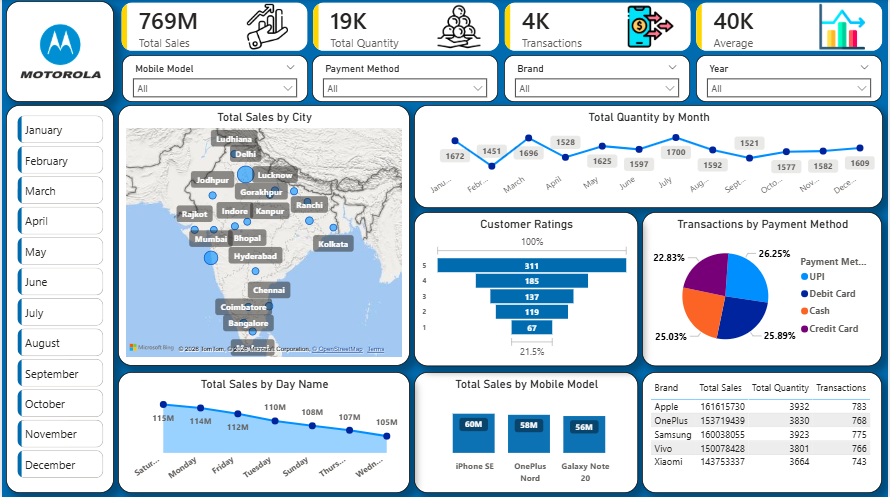

This screenshot's page, from the dashboard's own definition file:
{"tool":"powerbi","page":{"name":"Page 1","canvas":[1280,720],"ordinal":0},"visuals":[{"type":"shape","box":[5.8,2.9,156.1,146],"z":0},{"type":"shape","box":[5.8,153.3,156.1,561],"z":1000},{"type":"image","box":[20.2,7.2,128.7,137.3],"z":2000},{"type":"advancedSlicerVisual","fields":{"Values":["Mobile_Sales.Date.Variation.Date Hierarchy.Month"]},"box":[17.3,163.4,134.5,540.7],"z":3000},{"type":"cardVisual","fields":{"Data":["Mobile_Sales.Total Sales","Mobile_Sales.Total Quantity","Mobile_Sales.Transactions","Mobile_Sales.Average"]},"box":[167.7,0,1111.8,81],"z":4000},{"type":"map","fields":{"Category":["Mobile_Sales.City"],"Size":["Mobile_Sales.Total Sales"]},"box":[167.7,153.3,422.2,377.3],"z":5000},{"type":"lineChart","fields":{"Category":["Mobile_Sales.Date.Variation.Date Hierarchy.Month","Mobile_Sales.Date.Variation.Date Hierarchy.Day"],"Y":["Mobile_Sales.Total Quantity"]},"box":[595.7,153.3,678.1,148.9],"z":6000},{"type":"columnChart","fields":{"Category":["Mobile_Sales.Mobile Model"],"Y":["Mobile_Sales.Total Sales"]},"box":[595.7,539.3,323.9,174.9],"z":7000},{"type":"pieChart","fields":{"Category":["Mobile_Sales.Payment Method"],"Y":["Mobile_Sales.Transactions"]},"box":[925.3,308,347,222.7],"z":8000},{"type":"funnel","title":"Customer Ratings","fields":{"Category":["Mobile_Sales.Customer Ratings"],"Y":["CountNonNull(Mobile_Sales.Customer Ratings)"]},"box":[595.7,308,323.9,222.7],"z":9000},{"type":"areaChart","fields":{"Category":["Mobile_Sales.Day Name"],"Y":["Mobile_Sales.Total Sales"]},"box":[167.7,539.3,422.2,174.9],"z":10000},{"type":"tableEx","fields":{"Values":["Mobile_Sales.Brand","Mobile_Sales.Total Sales","Mobile_Sales.Total Quantity","Mobile_Sales.Transactions"]},"box":[925.3,539.3,347,174.9],"z":11000},{"type":"slicer","fields":{"Values":["Mobile_Sales.Brand"]},"box":[725.8,81,268.9,68],"z":11003},{"type":"slicer","fields":{"Values":["Mobile_Sales.Payment Method"]},"box":[448.2,81,268.9,68],"z":11005},{"type":"slicer","fields":{"Values":["Mobile_Sales.Date.Variation.Date Hierarchy.Year"]},"box":[1003.4,81,268.9,68],"z":11006},{"type":"slicer","fields":{"Values":["Mobile_Sales.Mobile Model"]},"box":[173.5,81,268.9,68],"z":11007}]}

Visuals, with their boxes in screenshot pixels (x1, y1, x2, y2), scaled from the page's 1280x720 canvas onto the 890x497 screenshot:
shape: (left=4, top=2, right=113, bottom=103)
shape: (left=4, top=106, right=113, bottom=493)
image: (left=14, top=5, right=104, bottom=100)
advancedSlicerVisual - Mobile_Sales.Date.Variation.Date Hierarchy.Month: (left=12, top=113, right=106, bottom=486)
cardVisual - Mobile_Sales.Total Sales x Mobile_Sales.Total Quantity: (left=117, top=0, right=889, bottom=56)
map - Mobile_Sales.City x Mobile_Sales.Total Sales: (left=117, top=106, right=410, bottom=366)
lineChart - Mobile_Sales.Date.Variation.Date Hierarchy.Month x Mobile_Sales.Date.Variation.Date Hierarchy.Day: (left=414, top=106, right=886, bottom=209)
columnChart - Mobile_Sales.Mobile Model x Mobile_Sales.Total Sales: (left=414, top=372, right=639, bottom=493)
pieChart - Mobile_Sales.Payment Method x Mobile_Sales.Transactions: (left=643, top=213, right=885, bottom=366)
"Customer Ratings" funnel: (left=414, top=213, right=639, bottom=366)
areaChart - Mobile_Sales.Day Name x Mobile_Sales.Total Sales: (left=117, top=372, right=410, bottom=493)
tableEx - Mobile_Sales.Brand x Mobile_Sales.Total Sales: (left=643, top=372, right=885, bottom=493)
slicer - Mobile_Sales.Brand: (left=505, top=56, right=692, bottom=103)
slicer - Mobile_Sales.Payment Method: (left=312, top=56, right=499, bottom=103)
slicer - Mobile_Sales.Date.Variation.Date Hierarchy.Year: (left=698, top=56, right=885, bottom=103)
slicer - Mobile_Sales.Mobile Model: (left=121, top=56, right=308, bottom=103)
